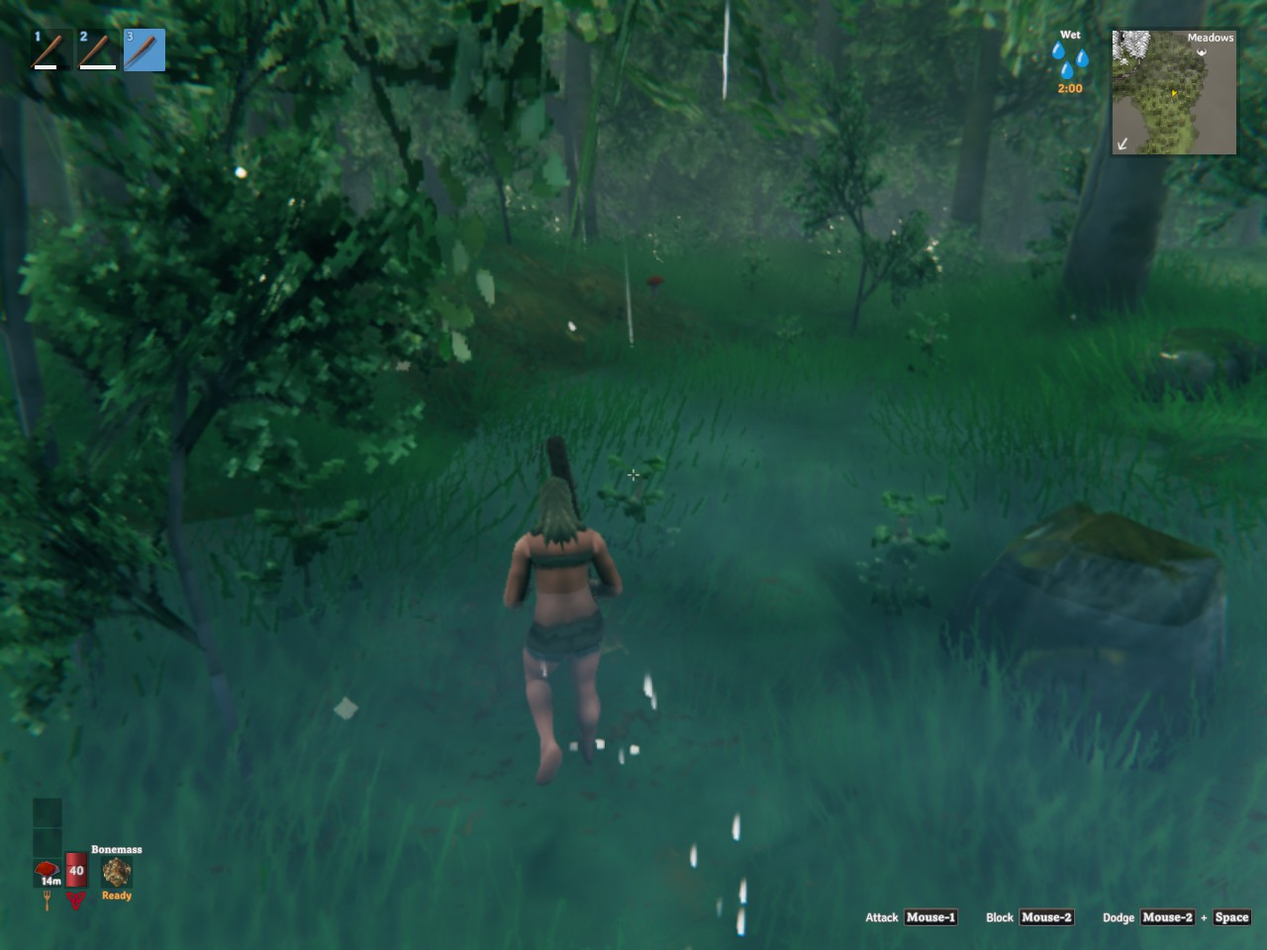Food Indicator: (36, 797, 63, 891)
Health Bar: (63, 820, 90, 891)
Hotbar: (24, 21, 195, 80)
Mushroom: (646, 274, 662, 292)
Status Indicator: (1024, 22, 1111, 100)
